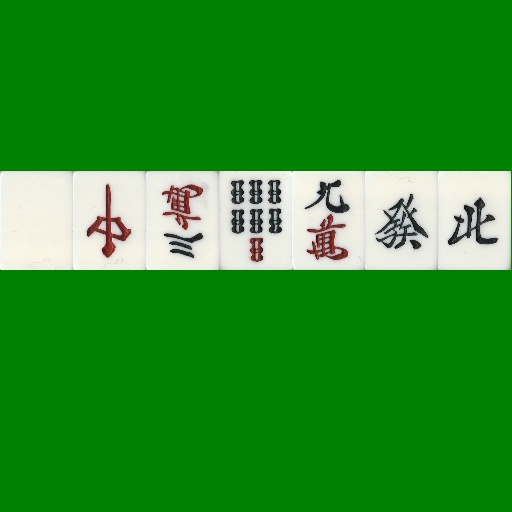3m: (146, 171, 219, 270)
7s: (219, 171, 292, 270)
9m: (292, 171, 365, 270)
hatsu: (365, 171, 438, 270)
north: (438, 171, 511, 270)
tyun: (73, 171, 146, 270)
white: (0, 171, 73, 270)
